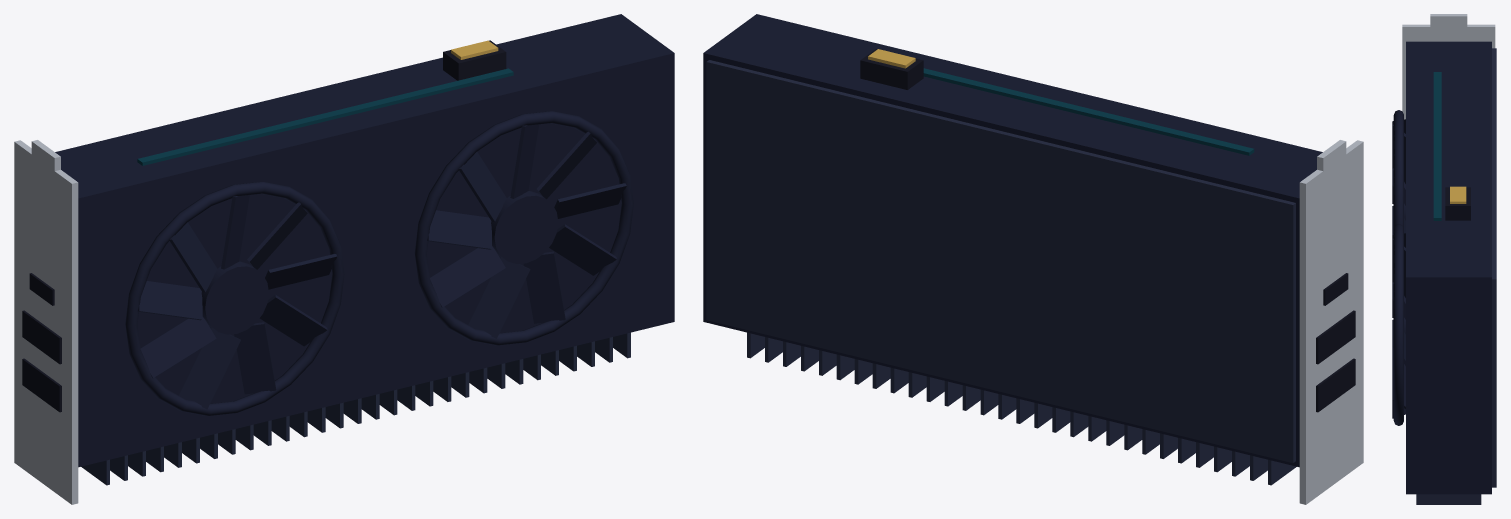
Rendered from gpu-midrange.glb.
3 renders of one model, left to right at view 1: azimuth 30°, elevation 25°; view 2: azimuth 150°, elevation 25°; view 3: azimuth 270°, elevation 25°, orthographic. The views are drawn at different scales.
Parts seen in each view (by area): view 1: shroud, blades_2, blades_1, pcie_bracket, fin_comb, fan_ring_1, fan_ring, side_rgb_strip, io_cutouts, power_connector; view 2: backplate, shroud, pcie_bracket, fin_comb, side_rgb_strip, io_cutouts, power_connector; view 3: shroud, backplate, fan_ring_1, pcie_bracket, side_rgb_strip, fan_ring, bracket_tab, blades_2, fin_comb, power_connector, blades_1, power_pins.
Boxes of the visible parts, left/top/right/bottom form: shroud: left=55, top=14, right=674, bottom=467; blades_2: left=427, top=124, right=626, bottom=338; blades_1: left=137, top=195, right=337, bottom=409; pcie_bracket: left=14, top=140, right=78, bottom=504; fin_comb: left=81, top=332, right=630, bottom=485; fan_ring_1: left=414, top=111, right=633, bottom=345; fan_ring: left=125, top=182, right=344, bottom=415; side_rgb_strip: left=137, top=68, right=513, bottom=165; io_cutouts: left=22, top=273, right=61, bottom=412; power_connector: left=443, top=40, right=506, bottom=80; backplate: left=706, top=60, right=1295, bottom=462; shroud: left=703, top=14, right=1322, bottom=467; pcie_bracket: left=1299, top=140, right=1363, bottom=504; fin_comb: left=747, top=332, right=1296, bottom=485; side_rgb_strip: left=923, top=68, right=1254, bottom=155; io_cutouts: left=1316, top=273, right=1355, bottom=412; power_connector: left=860, top=49, right=923, bottom=89; shroud: left=1406, top=41, right=1491, bottom=494; backplate: left=1492, top=48, right=1496, bottom=487; fan_ring_1: left=1393, top=224, right=1403, bottom=425; pcie_bracket: left=1402, top=24, right=1495, bottom=119; side_rgb_strip: left=1433, top=72, right=1441, bottom=220; fan_ring: left=1393, top=110, right=1403, bottom=228; bracket_tab: left=1430, top=14, right=1467, bottom=33; blades_2: left=1392, top=233, right=1405, bottom=418; fin_comb: left=1416, top=494, right=1481, bottom=504; power_connector: left=1445, top=187, right=1470, bottom=220; blades_1: left=1392, top=119, right=1405, bottom=234; power_pins: left=1450, top=186, right=1466, bottom=203.
Bounding box in the file's own units: 243 × 128 × 44.78.
